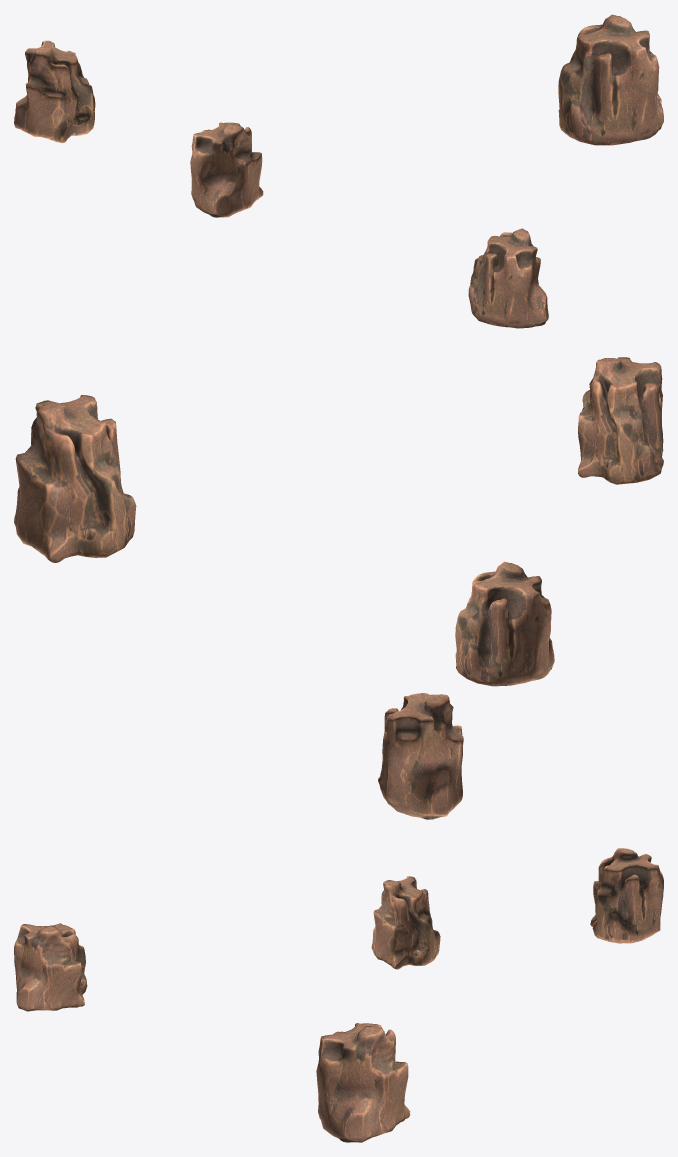
Rendered from Rock_01_Unity.FBX.
3 renders of one model, top to bottom at view 1: azimuth 30°, elevation 25°; view 2: azimuth 150°, elevation 25°; view 3: azimuth 270°, elevation 25°, orthographic. The views are drawn at different scales.
Parts seen in each view (by area): view 1: Rock_01_Unity; view 2: Rock_01_Unity; view 3: Rock_01_Unity.
Part boxes in pixels (x1=…): Rock_01_Unity: x1=14, y1=14, x2=663, y2=328; Rock_01_Unity: x1=14, y1=357, x2=663, y2=819; Rock_01_Unity: x1=14, y1=848, x2=663, y2=1142.
Size of the model in its own units: 1891 by 389 by 2301.
Materials: 1 (1 with a texture image).
